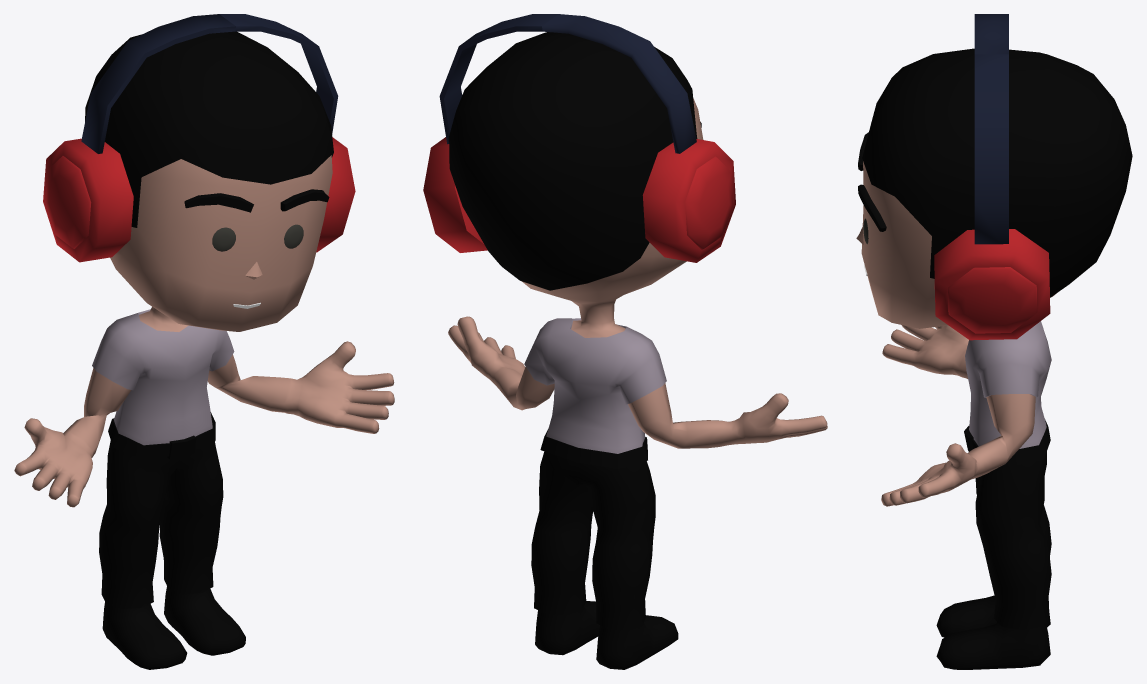
Rendered from Personajes_Rockeros_001.fbx.
3 views of the same model, side by side, from view 1: azimuth 30°, elevation 25°; view 2: azimuth 150°, elevation 25°; view 3: azimuth 270°, elevation 25° (orthographic).
Visible parts, largest first — view 1: body.002, hair4, headphones, pants1, shirt1, socks.002, belt1, eyebrows1.002, eyes6.002; view 2: hair4, headphones, pants1, body.002, shirt1, socks.002, belt1; view 3: hair4, headphones, body.002, pants1, shirt1, socks.002, belt1, eyebrows1.002.
Part boxes in pixels (x1=…): body.002: x1=14, y1=155, x2=394, y2=507; hair4: x1=85, y1=31, x2=333, y2=227; headphones: x1=43, y1=14, x2=355, y2=262; pants1: x1=99, y1=440, x2=223, y2=608; shirt1: x1=92, y1=309, x2=234, y2=445; socks.002: x1=102, y1=586, x2=245, y2=669; belt1: x1=108, y1=412, x2=215, y2=459; eyebrows1.002: x1=184, y1=189, x2=329, y2=212; eyes6.002: x1=212, y1=224, x2=303, y2=251; hair4: x1=449, y1=32, x2=697, y2=290; headphones: x1=423, y1=14, x2=735, y2=262; pants1: x1=531, y1=451, x2=655, y2=630; body.002: x1=448, y1=98, x2=827, y2=448; shirt1: x1=524, y1=318, x2=666, y2=453; socks.002: x1=535, y1=601, x2=678, y2=669; belt1: x1=540, y1=429, x2=647, y2=468; hair4: x1=862, y1=48, x2=1132, y2=297; headphones: x1=934, y1=14, x2=1050, y2=340; body.002: x1=861, y1=161, x2=1056, y2=506; pants1: x1=975, y1=451, x2=1051, y2=629; shirt1: x1=965, y1=321, x2=1051, y2=448; socks.002: x1=936, y1=595, x2=1050, y2=669; belt1: x1=964, y1=419, x2=1050, y2=466; eyebrows1.002: x1=858, y1=132, x2=886, y2=231.
Size of the model in its own units: 114 by 176 by 70.73.
